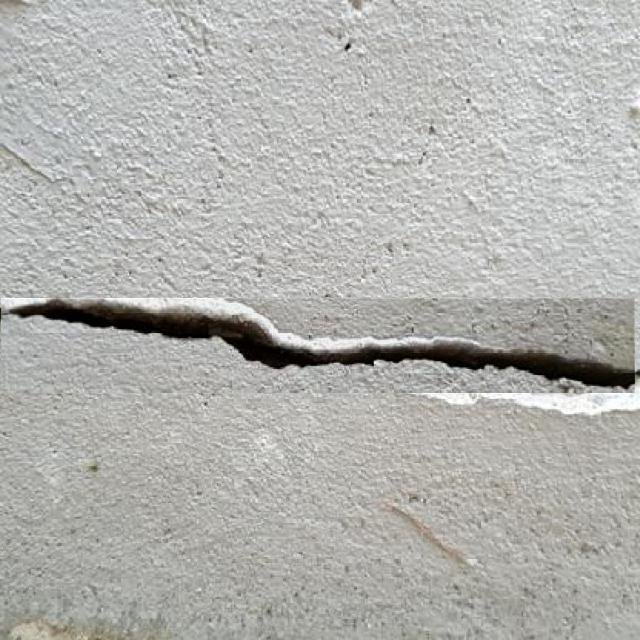horizontal crack: (1, 299, 634, 393)
